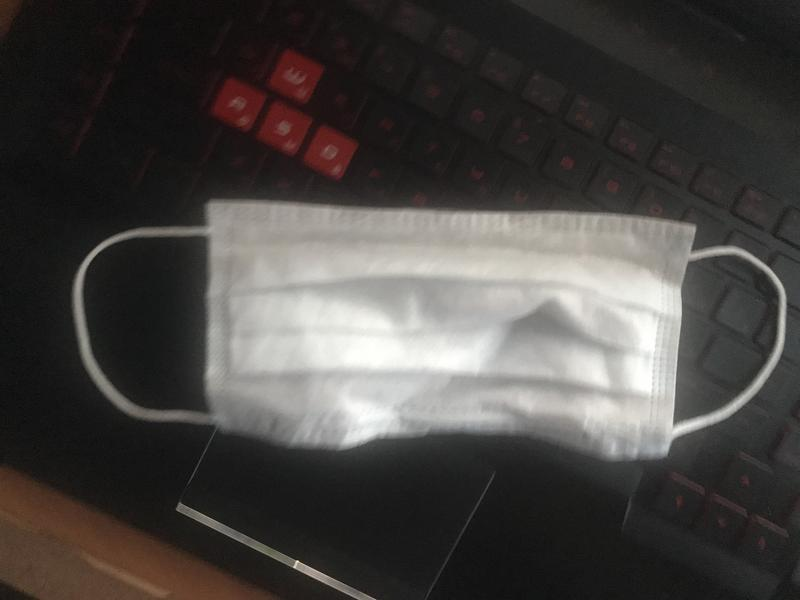medical_mask: (75, 198, 790, 462)
